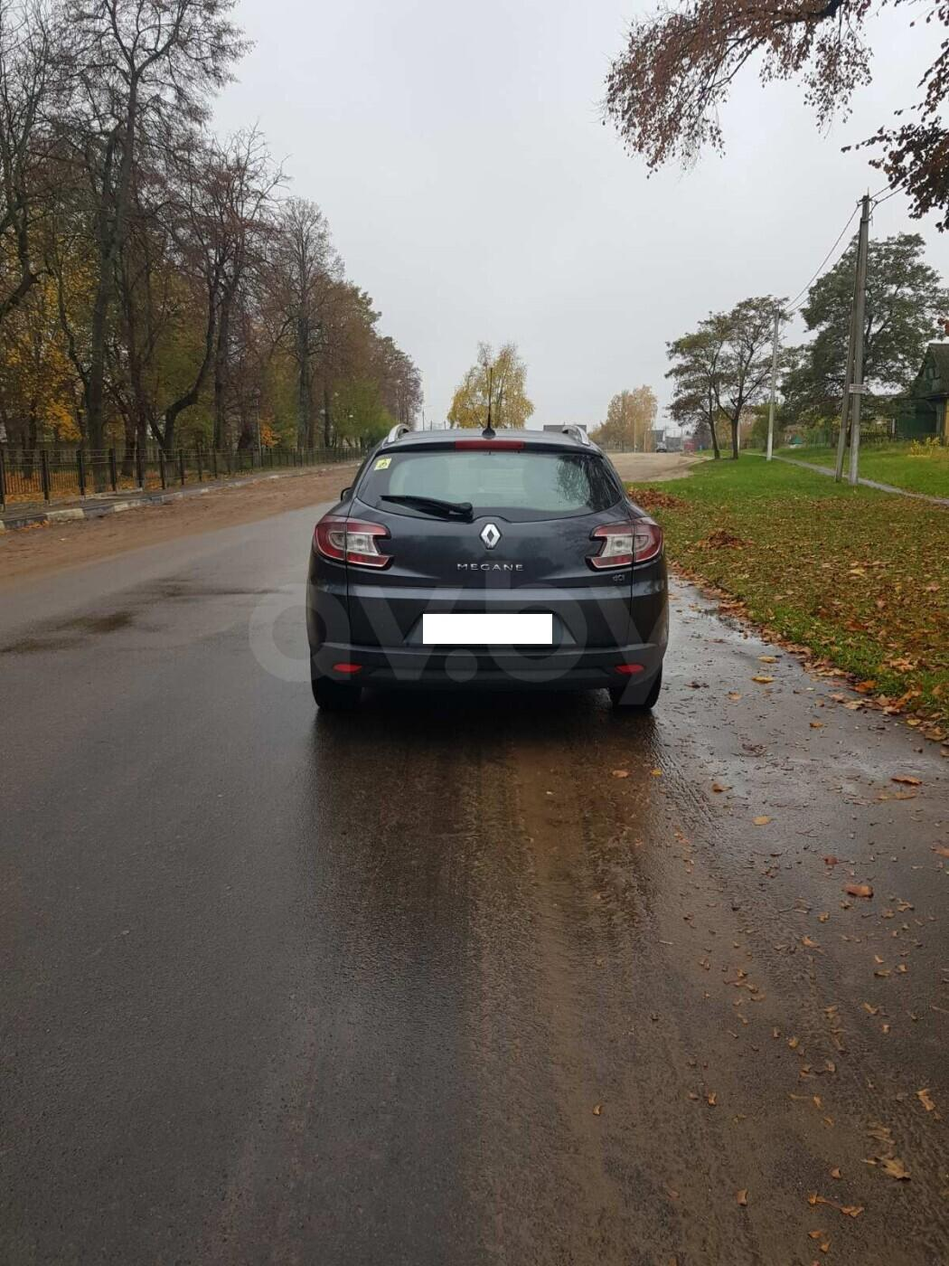Megane_2008-2014: (304, 429, 672, 732)
